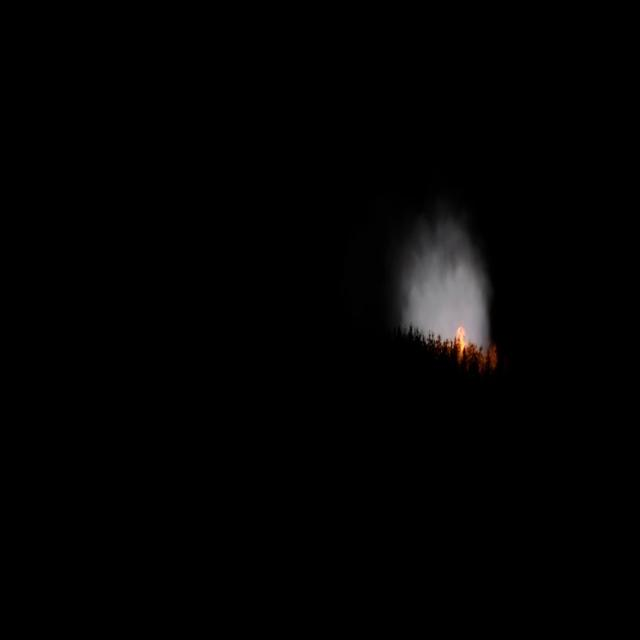fire: (455, 324, 467, 352)
smoke: (397, 208, 491, 354)
